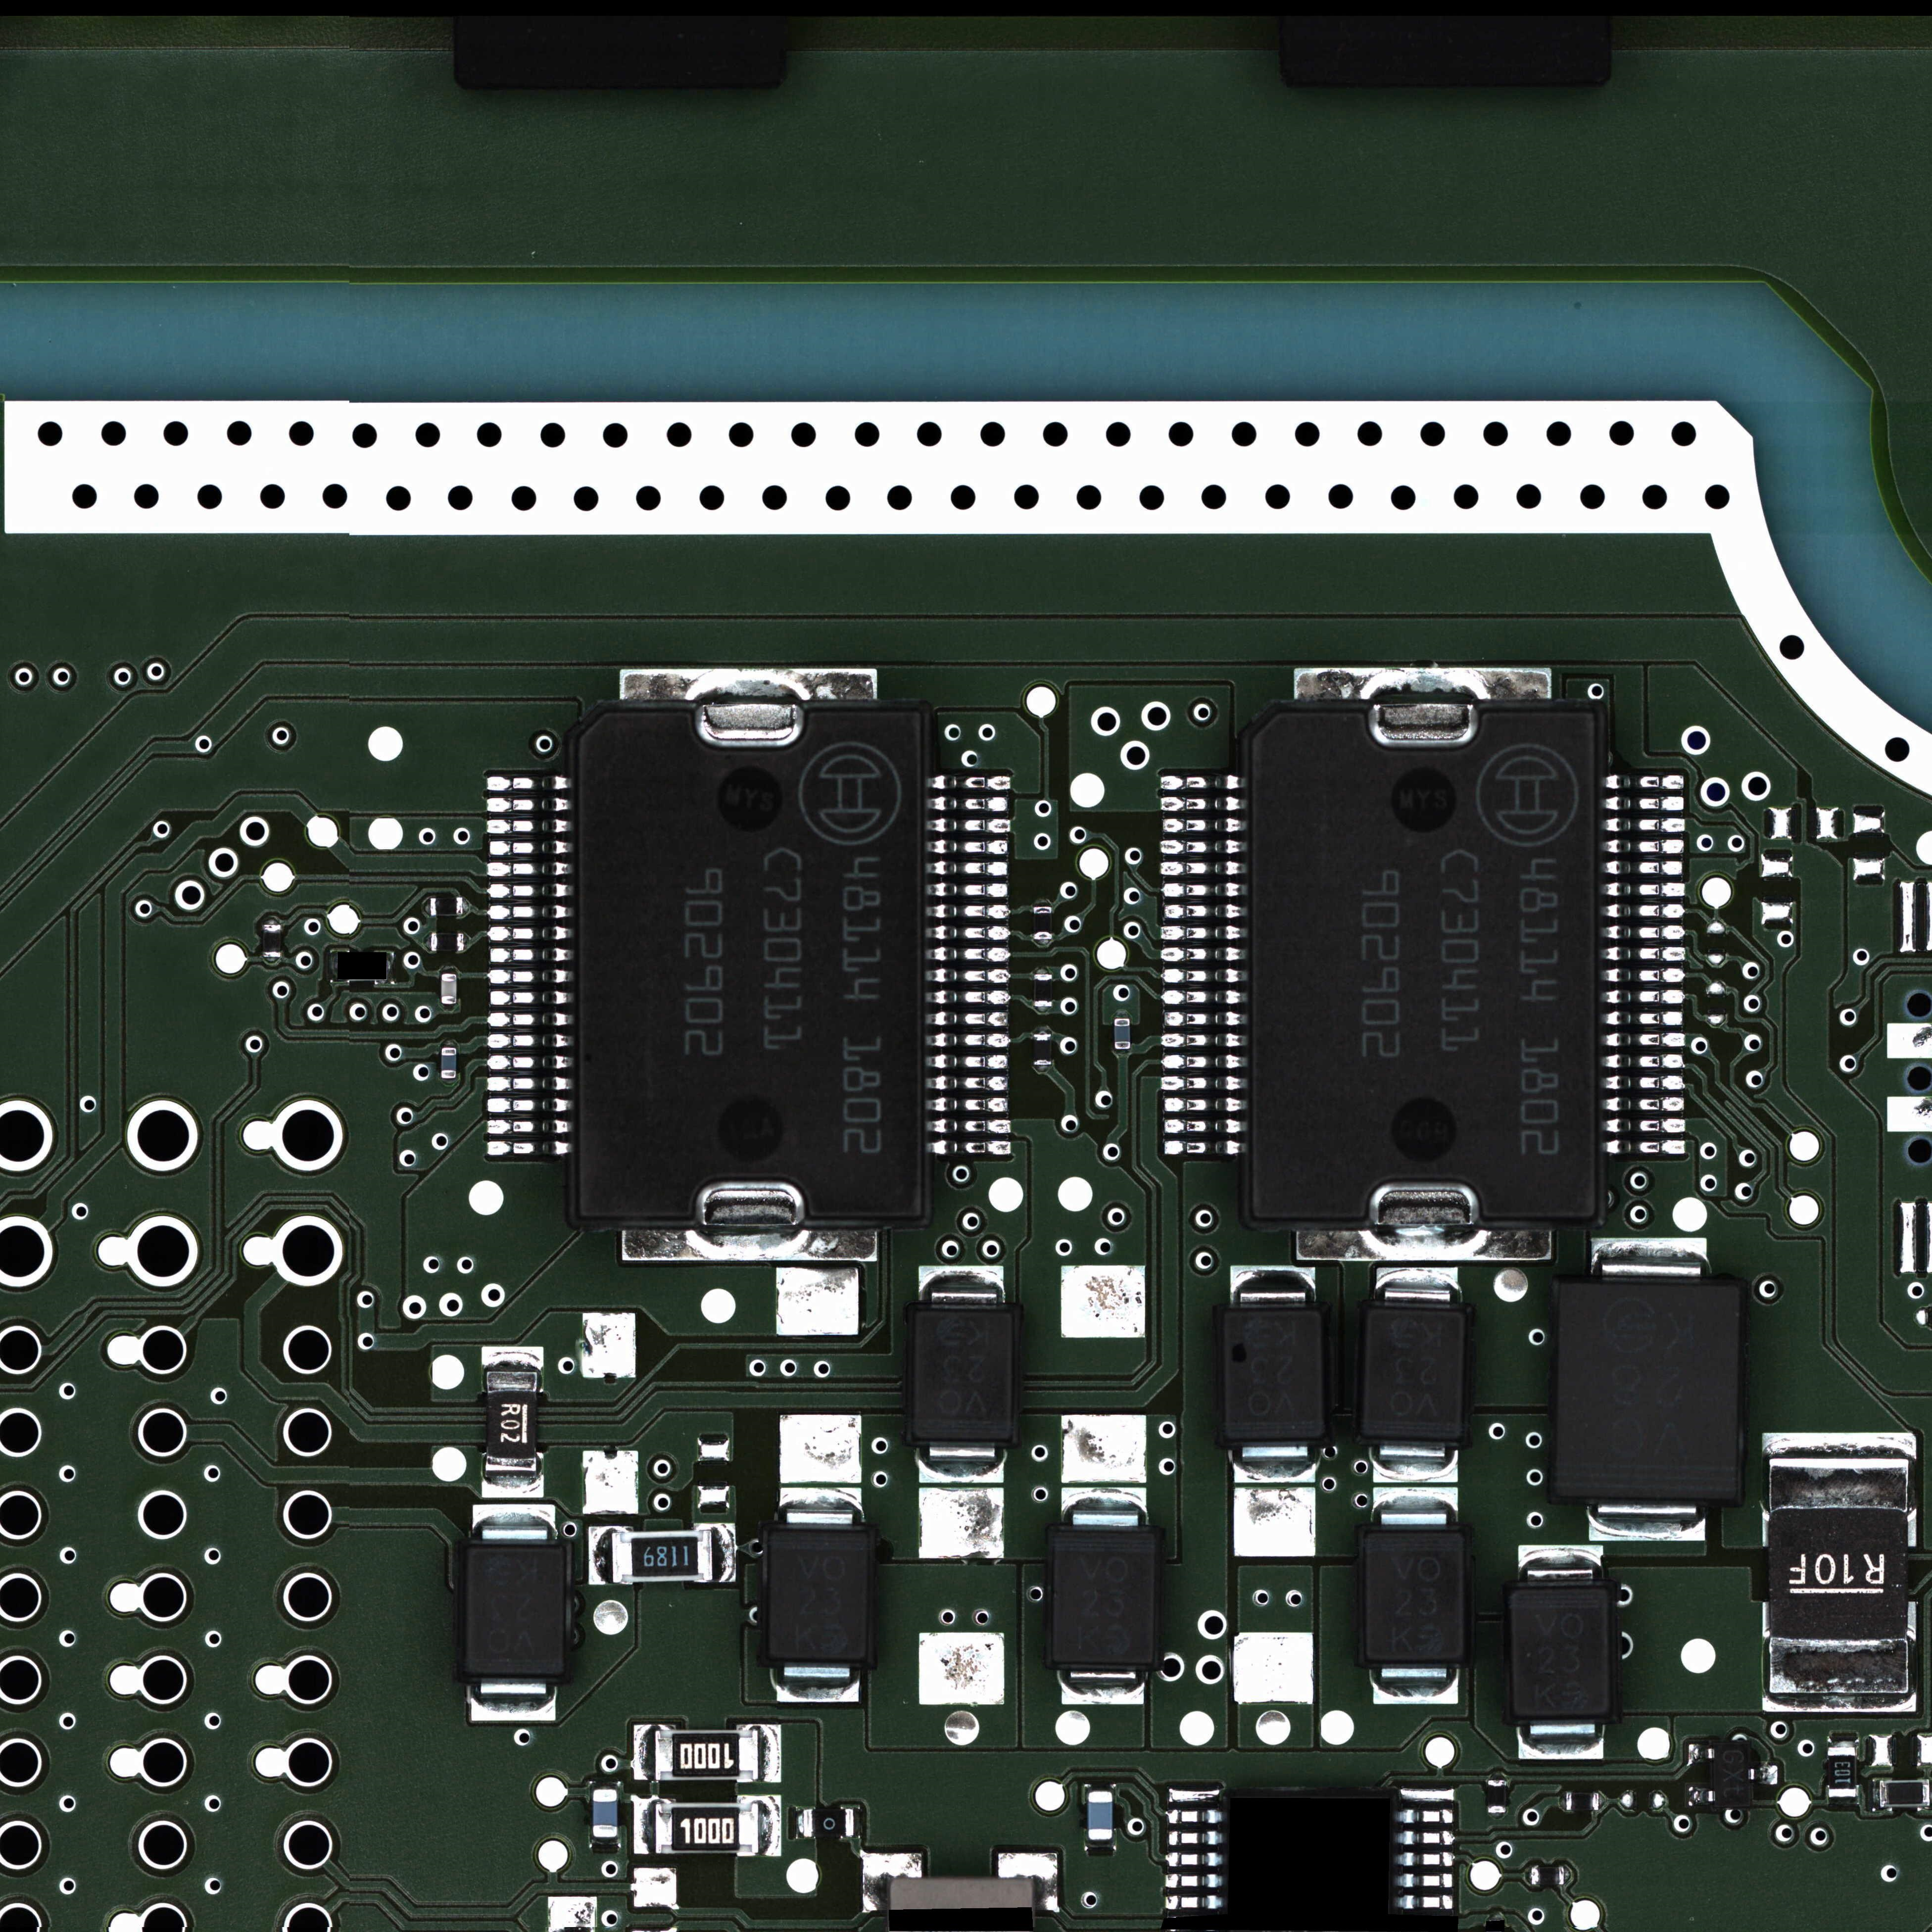Package: (577, 704, 925, 1223), (1251, 709, 1596, 1219), (1559, 1283, 1739, 1499), (1767, 1507, 1909, 1638), (1051, 1523, 1161, 1668), (1361, 1300, 1468, 1440), (1507, 1585, 1615, 1723), (1217, 1306, 1325, 1442), (1362, 1532, 1470, 1667), (465, 1541, 570, 1679), (911, 1304, 1016, 1442), (768, 1529, 869, 1660), (655, 1729, 755, 1780), (612, 1530, 711, 1582), (656, 1803, 755, 1852), (487, 1375, 538, 1467), (1714, 1739, 1748, 1810), (801, 1808, 855, 1836), (1828, 1744, 1856, 1798), (1881, 1780, 1928, 1806), (1088, 1790, 1113, 1840), (593, 1790, 617, 1836), (262, 924, 283, 957), (1530, 1867, 1564, 1886), (1566, 1792, 1599, 1812), (1486, 1782, 1507, 1812), (1033, 973, 1051, 1007), (430, 897, 464, 915), (1033, 908, 1051, 939), (432, 934, 464, 950), (1035, 1033, 1051, 1065), (441, 1047, 456, 1077), (441, 973, 456, 1003), (1115, 1019, 1129, 1049)
Solder: (1760, 1433, 1916, 1506), (1764, 1640, 1918, 1711), (1295, 1230, 1553, 1261), (617, 1231, 878, 1261), (619, 669, 878, 697), (1293, 669, 1552, 697), (1594, 1237, 1707, 1279), (1591, 1500, 1702, 1541), (1375, 1486, 1458, 1530), (862, 1852, 922, 1913), (775, 1661, 860, 1704), (998, 1852, 1058, 1911), (471, 1681, 554, 1721), (918, 1444, 1005, 1483), (1518, 1545, 1605, 1583), (780, 1488, 863, 1527), (1062, 1486, 1146, 1523), (472, 1504, 556, 1541), (920, 1265, 1003, 1302), (1373, 1668, 1458, 1704), (1231, 1265, 1316, 1300), (1233, 1445, 1313, 1483), (1060, 1670, 1143, 1706), (1376, 1265, 1460, 1300), (1375, 1447, 1456, 1483), (1520, 1725, 1603, 1759), (1161, 968, 1249, 987), (481, 1472, 543, 1499), (1161, 925, 1249, 943), (1161, 1074, 1249, 1092), (1159, 773, 1247, 791), (1161, 947, 1249, 964), (1162, 1118, 1249, 1136), (1162, 989, 1249, 1007), (1161, 794, 1247, 812), (1162, 1010, 1249, 1028), (1162, 1139, 1249, 1157), (487, 1076, 571, 1093), (487, 883, 571, 901), (487, 839, 571, 856), (487, 796, 571, 814), (487, 1097, 571, 1115), (927, 968, 1010, 985), (488, 989, 571, 1007), (488, 947, 571, 964), (927, 817, 1010, 835), (929, 773, 1012, 791), (927, 947, 1010, 964), (487, 925, 570, 943), (488, 902, 571, 920), (1603, 881, 1684, 899), (927, 860, 1008, 878), (1603, 839, 1684, 856), (1603, 1010, 1684, 1028), (929, 881, 1008, 899), (1159, 839, 1247, 855), (1161, 1033, 1249, 1049), (1605, 773, 1684, 791), (1161, 1054, 1249, 1070), (1161, 881, 1247, 897), (1161, 817, 1247, 833), (485, 1141, 571, 1157), (1159, 860, 1246, 876), (1162, 902, 1247, 918), (487, 1120, 571, 1136), (487, 1033, 571, 1049), (487, 1012, 571, 1028), (487, 819, 571, 835), (487, 775, 571, 791), (487, 1054, 571, 1070), (483, 1346, 541, 1369), (711, 1523, 734, 1582), (488, 970, 571, 985), (1603, 968, 1686, 984), (929, 1118, 1012, 1134), (1603, 925, 1686, 941), (927, 925, 1010, 941), (1603, 904, 1686, 920), (1603, 1118, 1686, 1134), (488, 862, 571, 878), (1603, 947, 1686, 962), (1603, 1076, 1684, 1092), (929, 796, 1010, 812), (1603, 860, 1684, 876), (1603, 989, 1684, 1005), (1603, 796, 1684, 812), (929, 989, 1010, 1005), (1603, 1054, 1684, 1070), (929, 904, 1010, 920), (927, 840, 1008, 856), (927, 1033, 1008, 1049), (1603, 1033, 1684, 1049), (1603, 817, 1684, 833), (1603, 1097, 1684, 1113), (929, 1012, 1010, 1028), (927, 1054, 1008, 1070), (759, 1798, 780, 1858), (929, 1076, 1008, 1092), (929, 1097, 1008, 1113), (1162, 1097, 1249, 1111), (929, 1141, 1012, 1155), (1603, 1141, 1686, 1155), (591, 1525, 610, 1583), (633, 1798, 653, 1854), (761, 1725, 780, 1782), (1394, 1851, 1456, 1868), (1394, 1893, 1456, 1911), (633, 1725, 653, 1780), (1394, 1806, 1454, 1824), (1394, 1872, 1454, 1890), (1162, 1829, 1226, 1845), (1162, 1872, 1226, 1888), (1164, 1808, 1226, 1824), (1164, 1851, 1226, 1867), (1164, 1895, 1226, 1911), (1394, 1829, 1456, 1845), (1748, 1764, 1776, 1785), (1688, 1744, 1714, 1764), (1688, 1787, 1714, 1806), (1086, 1840, 1116, 1851), (1085, 1780, 1115, 1790), (589, 1838, 621, 1847), (589, 1780, 619, 1789), (1828, 1737, 1858, 1744), (1828, 1799, 1858, 1806), (1872, 1778, 1879, 1808), (1520, 1867, 1530, 1886), (387, 954, 395, 982), (1564, 1865, 1573, 1886), (1557, 1792, 1566, 1812), (464, 897, 472, 916), (423, 932, 432, 952), (464, 932, 472, 952), (331, 952, 336, 982), (855, 1808, 860, 1838), (262, 955, 283, 962), (796, 1810, 801, 1836), (1599, 1792, 1606, 1812), (425, 897, 432, 916), (1035, 939, 1053, 947), (1033, 899, 1051, 906), (1033, 1065, 1051, 1072), (1033, 1026, 1051, 1033), (262, 916, 283, 922), (439, 1079, 458, 1085), (1033, 1007, 1053, 1012), (439, 1005, 458, 1010), (1486, 1914, 1506, 1920), (1490, 1775, 1504, 1782), (1033, 968, 1051, 973), (441, 1040, 458, 1046), (1113, 1012, 1131, 1017), (1115, 1051, 1132, 1056), (441, 966, 456, 971), (1490, 1813, 1506, 1819)
